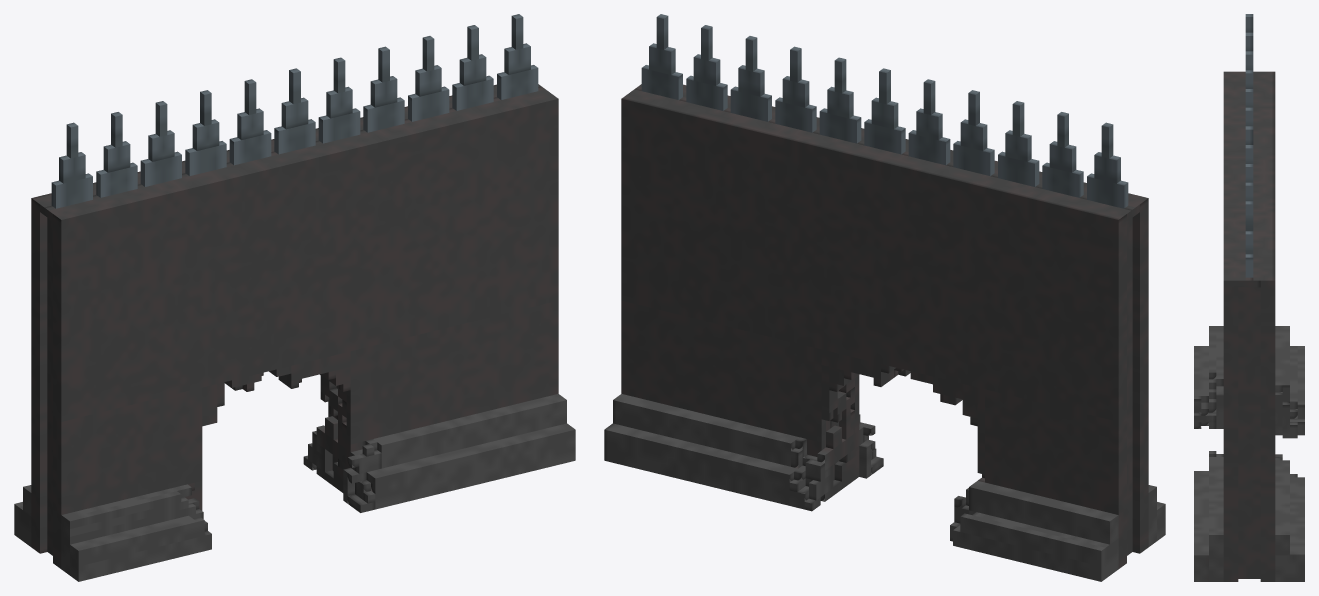
The model's file is murry_getta_dziura_wejsc.dae.
The picture shows the model from 3 angles, left to right: view 1: azimuth 30°, elevation 25°; view 2: azimuth 150°, elevation 25°; view 3: azimuth 270°, elevation 25°; orthographic projection. The views are drawn at different scales.
Visible parts, largest first — view 1: Content; view 2: Content; view 3: Content.
Boxes of the visible parts, box(x1,y1,x2,y2) form: Content: box(14, 14, 575, 581); Content: box(604, 14, 1165, 581); Content: box(1194, 14, 1304, 581).
Size of the model in its own units: 67 by 55 by 15.
Materials: 1 (1 with a texture image).
